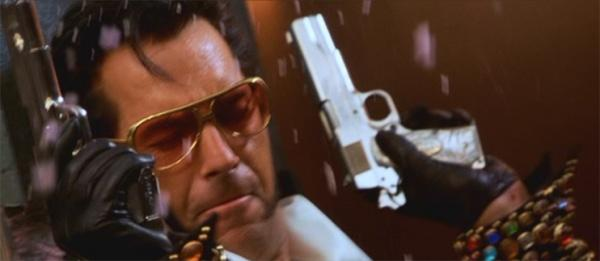Gun: (0, 0, 166, 237), (287, 10, 485, 208)
